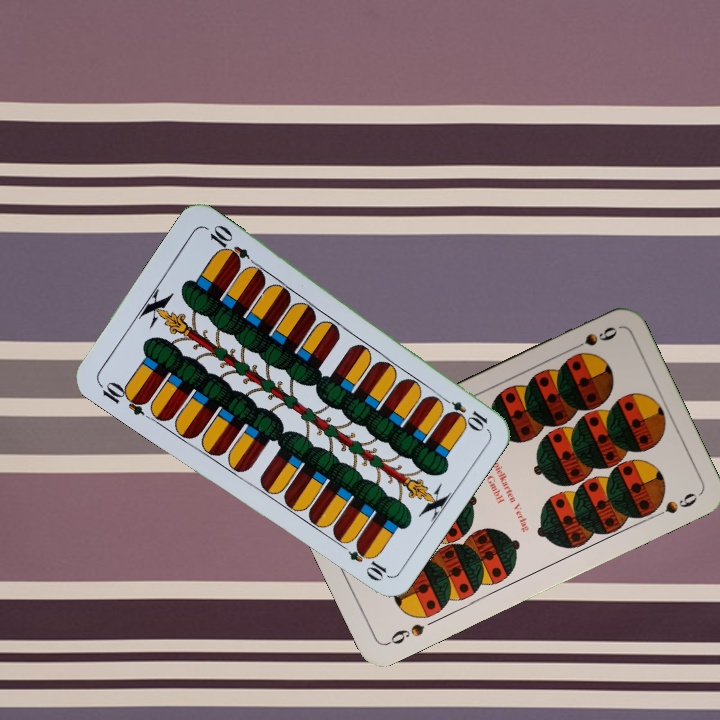E10: (94, 377, 151, 418), (435, 392, 491, 432)
S9: (564, 322, 620, 354), (382, 619, 427, 648)
